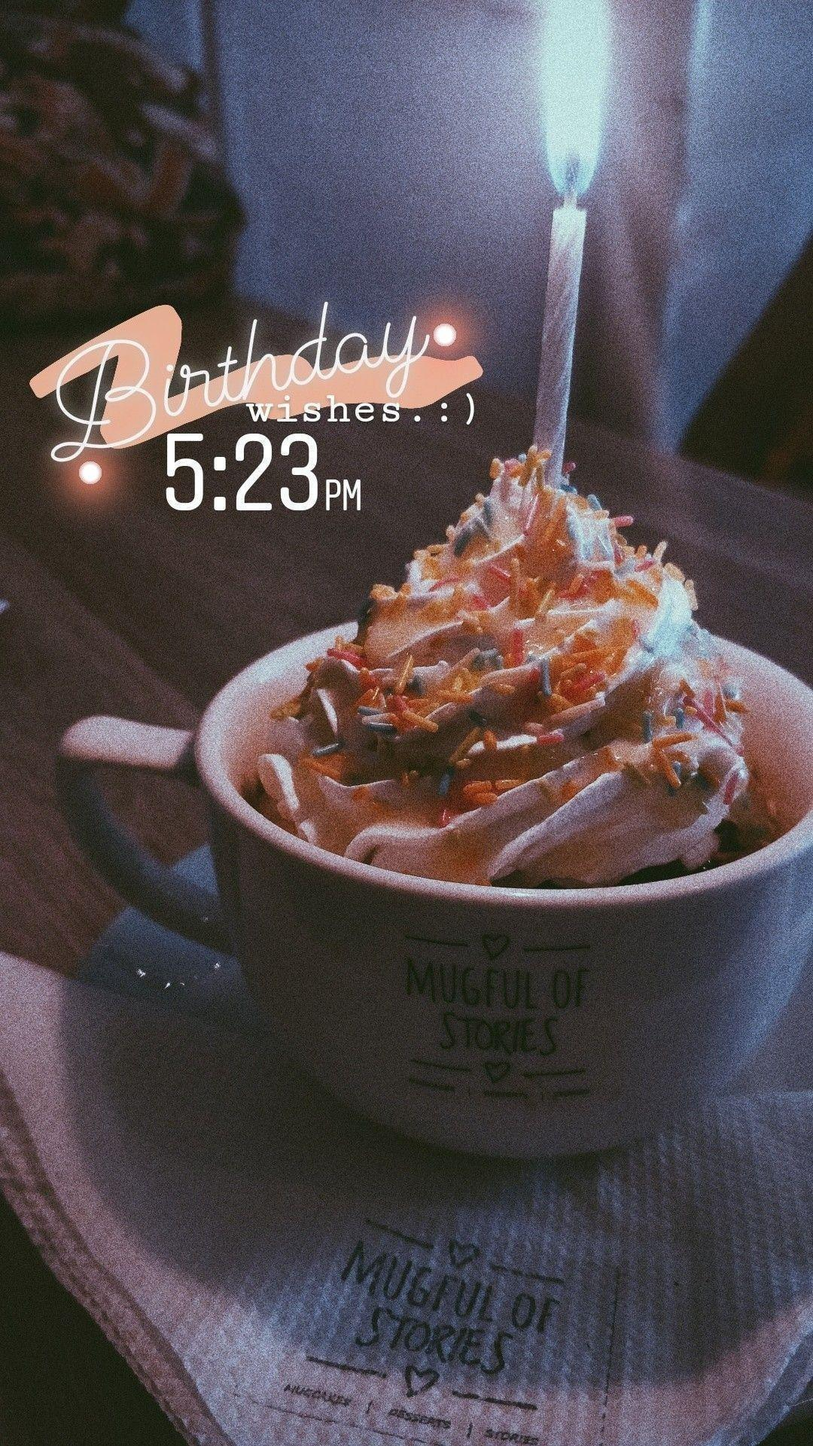cup-handle: (59, 605, 812, 1175)
